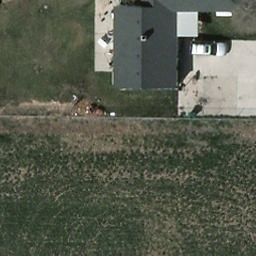car: (189, 40, 230, 57)
